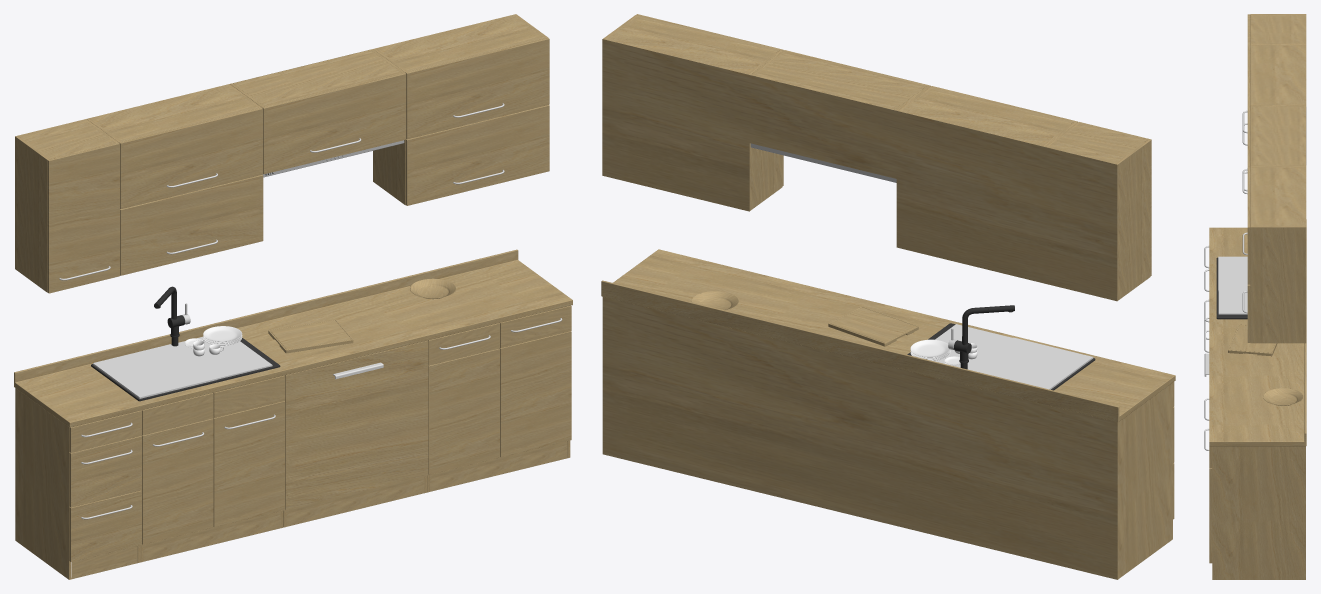
File: kitchen_set3.glb
The picture shows the model from 3 angles, left to right: view 1: azimuth 30°, elevation 25°; view 2: azimuth 150°, elevation 25°; view 3: azimuth 270°, elevation 25°; orthographic projection. The views are drawn at different scales.
Parts seen in each view (by area): view 1: tabletop.001, large drawer.013, cabinet doors_upper.006, cabinet doors_upper.008, cabinet doors_upper.010, cabinet doors_upper.011, cabinet doors_upper.009, cabinet doors_upper.007, cabinet frame.017, large drawer.010, large drawer.011, large drawer.012 (+21 smaller); view 2: backside.002, backside.003, tabletop.001, cabinet frame.017, cabinet frame_upper.015, cabinet frame_upper.026, cabinet frame_upper.025, cabinet frame_upper.023, boolean box for sink, cabinet frame_upper.014, cutting board, cabinet frame_upper.021 (+1 smaller); view 3: cabinet frame.020, tabletop.001, cabinet frame_upper.022, cabinet frame_upper.025, cabinet frame_upper.026, cabinet frame_upper.023, cabinet frame_upper.014, boolean box for sink, cutting board, boolean box, wooden bowl, cabinet doors_upper.010 (+6 smaller).
Boxes of the visible parts, x1,y1,x2,y2 form: tabletop.001: [14, 249, 572, 427]; large drawer.013: [285, 340, 428, 509]; cabinet doors_upper.006: [47, 142, 119, 293]; cabinet doors_upper.008: [119, 107, 263, 209]; cabinet doors_upper.010: [405, 38, 549, 139]; cabinet doors_upper.011: [262, 72, 406, 174]; cabinet doors_upper.009: [405, 105, 549, 205]; cabinet doors_upper.007: [120, 175, 263, 275]; cabinet frame.017: [15, 388, 140, 579]; large drawer.010: [213, 401, 285, 527]; large drawer.011: [428, 348, 499, 474]; large drawer.012: [499, 331, 571, 457]; backside.002: [602, 297, 1117, 579]; backside.003: [602, 39, 1117, 301]; tabletop.001: [601, 249, 1175, 422]; cabinet frame.017: [1117, 382, 1172, 579]; cabinet frame_upper.015: [1115, 140, 1150, 300]; cabinet frame_upper.026: [605, 15, 778, 74]; cabinet frame_upper.025: [900, 87, 1073, 145]; cabinet frame_upper.023: [753, 51, 926, 109]; boolean box for sink: [969, 337, 1093, 389]; cabinet frame_upper.014: [1047, 123, 1146, 163]; cutting board: [828, 306, 918, 346]; cabinet frame_upper.021: [747, 50, 782, 210]; cabinet frame.020: [1212, 446, 1305, 579]; tabletop.001: [1209, 219, 1306, 446]; cabinet frame_upper.022: [1250, 226, 1306, 343]; cabinet frame_upper.025: [1250, 45, 1306, 104]; cabinet frame_upper.026: [1250, 167, 1306, 226]; cabinet frame_upper.023: [1250, 106, 1305, 165]; cabinet frame_upper.014: [1250, 15, 1306, 43]; boolean box for sink: [1218, 256, 1247, 290]; cutting board: [1228, 324, 1277, 356]; boolean box: [1218, 290, 1247, 314]; wooden bowl: [1263, 388, 1303, 405]; cabinet doors_upper.010: [1247, 166, 1250, 284].
Size of the model in its own units: 2.81 by 2.16 by 0.5667.
18 materials, 8 textured.
